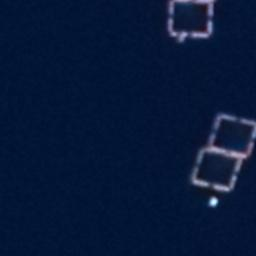square_solid: (187, 140, 244, 196), (204, 110, 256, 163), (162, 1, 217, 42)
